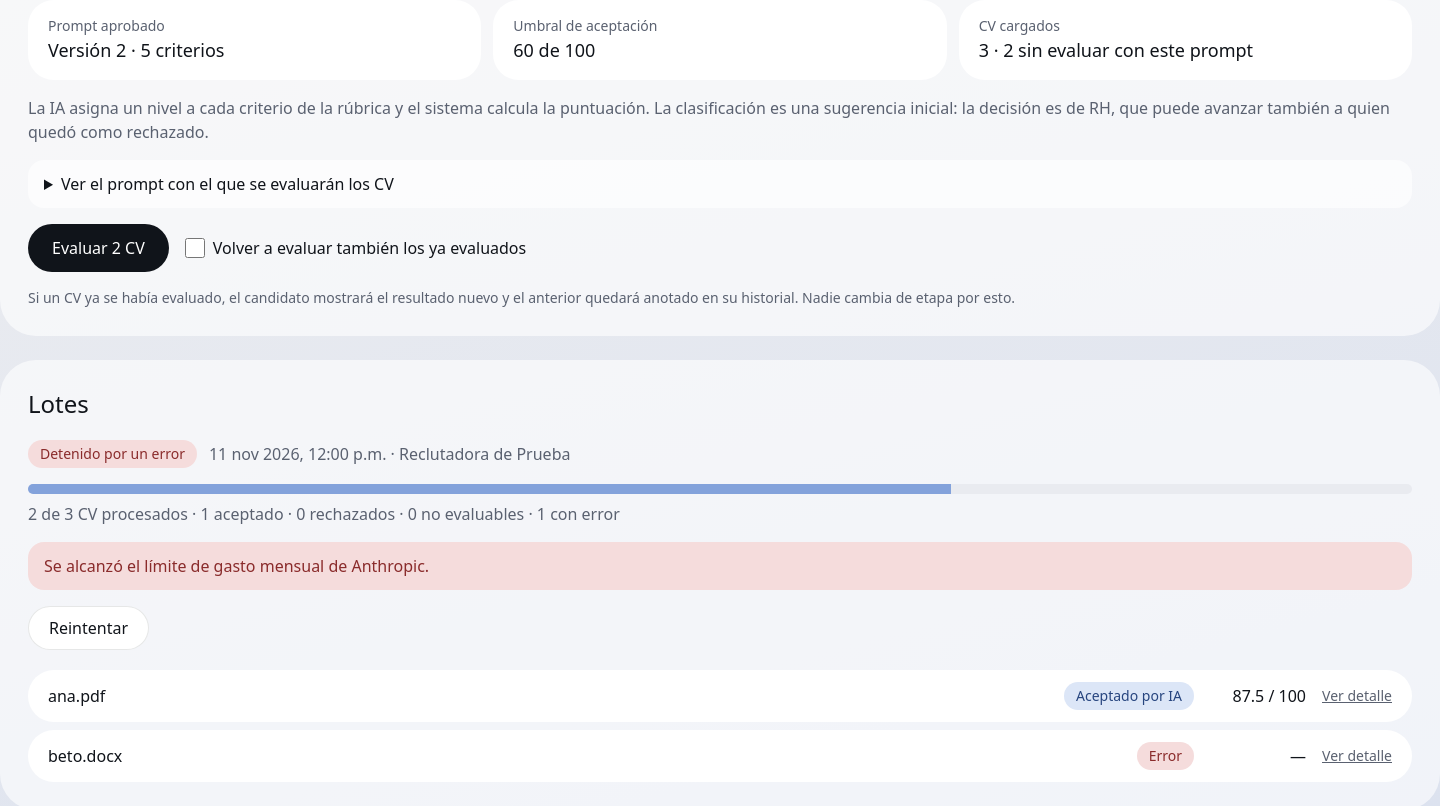
Scenario: CvEvaluationTab › un lote detenido muestra el motivo y se puede reintentar
(page scrolled)
expect the text "Se alcanzó el límite de gasto mensual de Anthropic." is shown: met, box [28,542,1412,590]
expect the text "Detenido por un error" is shown: met, box [28,440,197,468]
Click the button "Reintentar" at (88, 628), box [28,606,149,650]
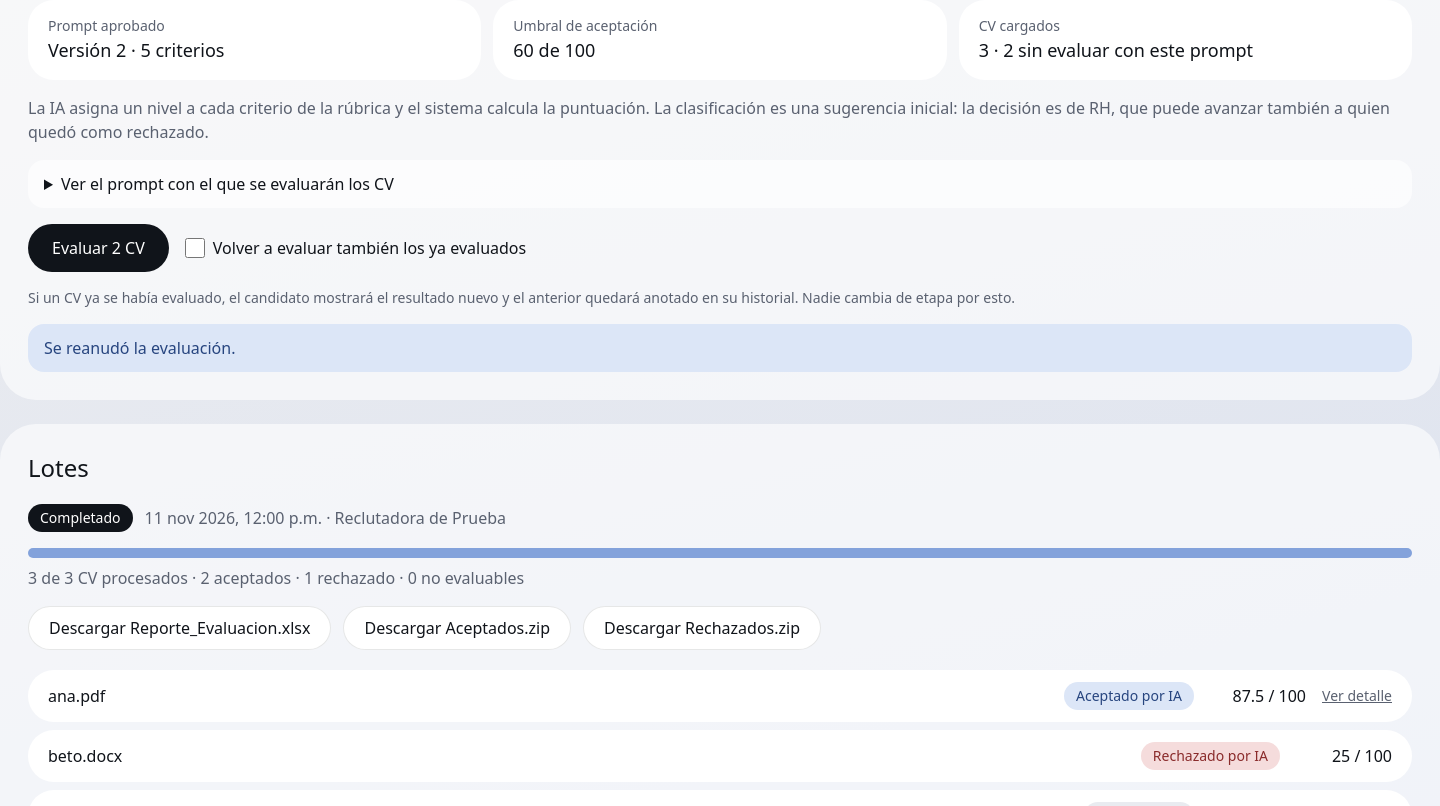
expect the text "Completado" is shown: met, box [28,504,132,532]
expect the text "límite de gasto mensual" is gone: met
